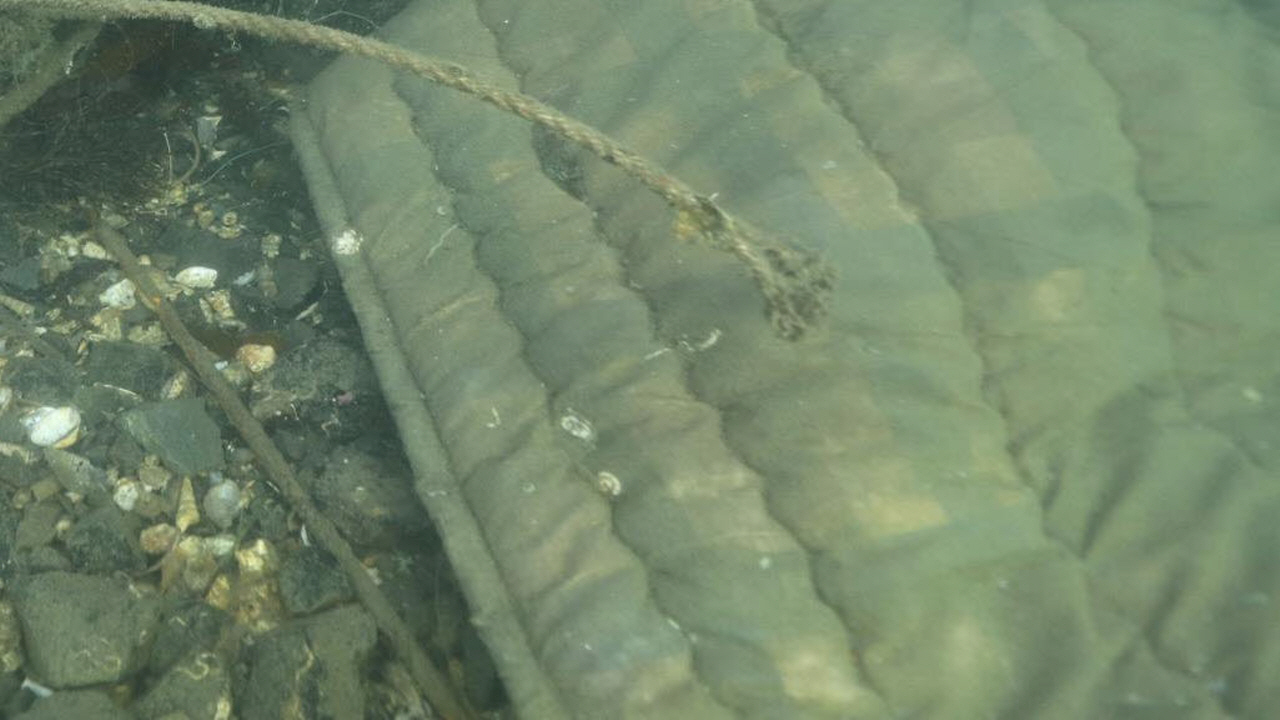rope: (0, 0, 723, 232)
